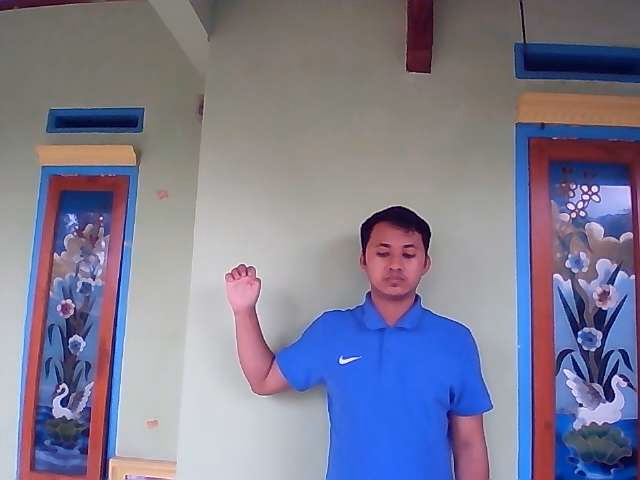E: (223, 264, 263, 311)
